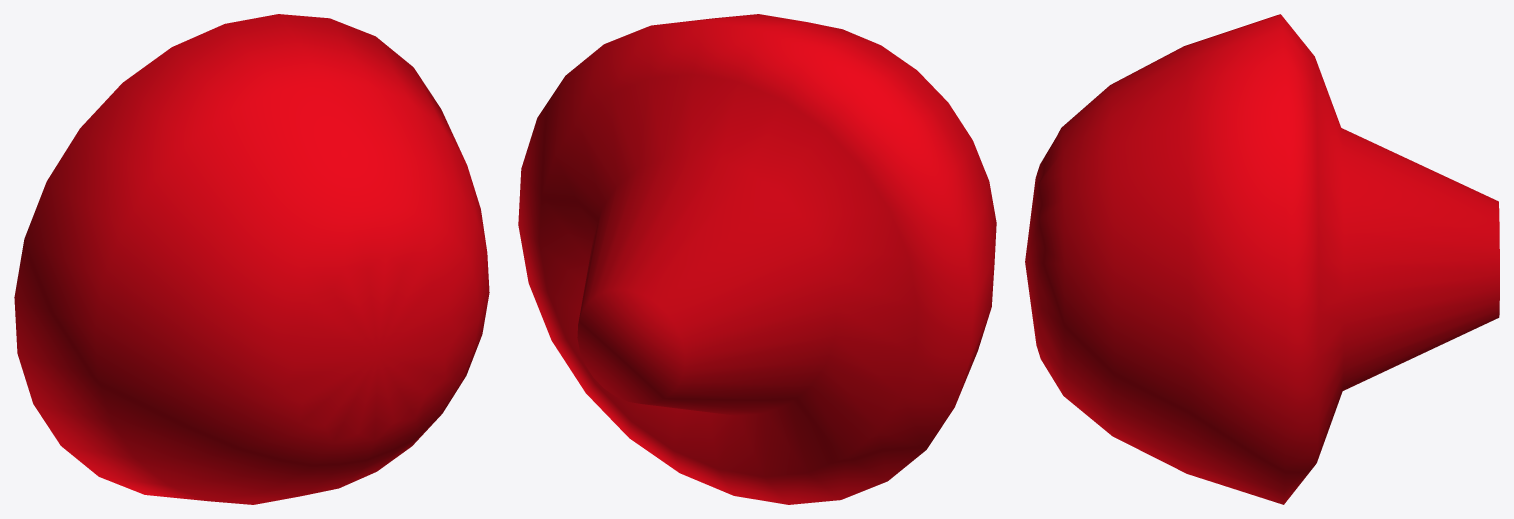
The model's file is Knee034.fbx.
The picture shows the model from 3 angles, left to right: view 1: azimuth 30°, elevation 25°; view 2: azimuth 150°, elevation 25°; view 3: azimuth 270°, elevation 25°; orthographic projection. The views are drawn at different scales.
Parts seen in each view (by area): view 1: Cube.006; view 2: Cube.006; view 3: Cube.006.
Boxes of the visible parts, x1,y1,x2,y2 form: Cube.006: [14, 14, 489, 504]; Cube.006: [518, 14, 996, 504]; Cube.006: [1025, 14, 1499, 504].
Size of the model in its own units: 6.44 by 6.45 by 6.21.
